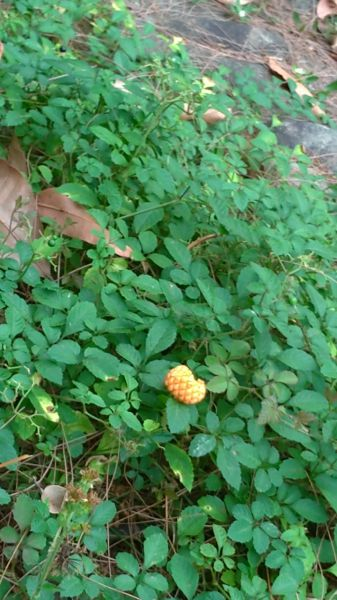eggs: (161, 362, 210, 407)
